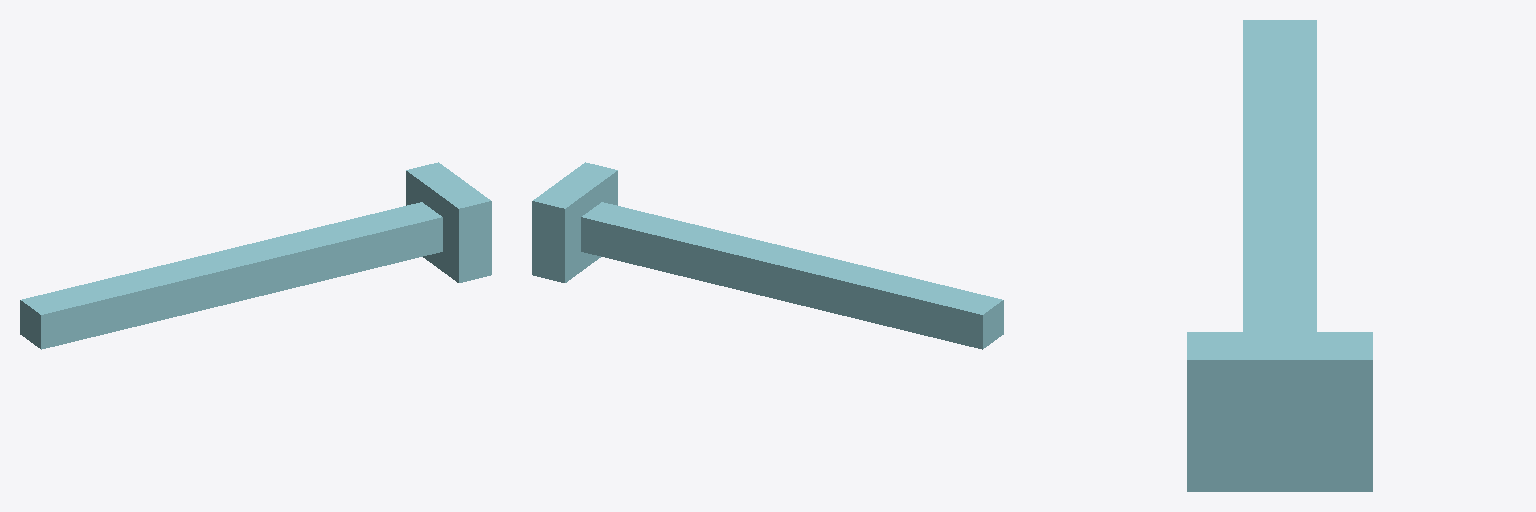
URDF robot description (cuboid_hammer_v004):
<?xml version="1.0"?>
<robot name="cuboid_hammer_v004">

  <link name="cuboid_hammer_v004">
    <!-- Handle -->
    <visual>
      <origin xyz="0 0 0" rpy="0 0 0"/>
      <geometry>
        <box size="0.2667575245610643 0.023892774157039352 0.022000815055905513"/>
      </geometry>
      <material name="material">
        <color rgba="0.639 0.847 0.882 1.0"/>
      </material>
    </visual>
    <collision>
      <origin xyz="0 0 0" rpy="0 0 0"/>
      <geometry>
        <box size="0.2667575245610643 0.023892774157039352 0.022000815055905513"/>
      </geometry>
    </collision>

    <!-- Head -->
    <visual>
      <origin xyz="0.14425483759627672 0 0" rpy="0 0 0"/>
      <geometry>
        <box size="0.02175215063148915 0.06080026444472835 0.04732195812969818"/>
      </geometry>
      <material name="material">
        <color rgba="0.639 0.847 0.882 1.0"/>
      </material>
    </visual>
    <collision>
      <origin xyz="0.14425483759627672 0 0" rpy="0 0 0"/>
      <geometry>
        <box size="0.02175215063148915 0.06080026444472835 0.04732195812969818"/>
      </geometry>
    </collision>

    <inertial>
      <density value="400.0"/>
    </inertial>
  </link>

</robot>

--- Facts derived from the render (not from the file) ---
Views: 3 orthographic renders of the robot side by side, from view 1: azimuth 30°, elevation 25°; view 2: azimuth 150°, elevation 25°; view 3: azimuth 270°, elevation 25°.
Robot: cuboid_hammer_v004 — 1 links, 0 joints (none); root link cuboid_hammer_v004; default pose: all joints at 0.
Visible links, largest first — view 1: cuboid_hammer_v004; view 2: cuboid_hammer_v004; view 3: cuboid_hammer_v004.
Boxes of the visible links, left/top/right/bottom form: cuboid_hammer_v004: left=20, top=162, right=491, bottom=349; cuboid_hammer_v004: left=532, top=162, right=1003, bottom=349; cuboid_hammer_v004: left=1187, top=20, right=1372, bottom=491.
Size in the robot's own frame: 0.2885 by 0.0608 by 0.0473 metres.
Geometry: primitives only (box / cylinder / sphere), no mesh files.
